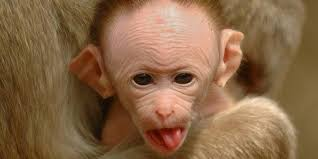monkey: (63, 6, 252, 144)
